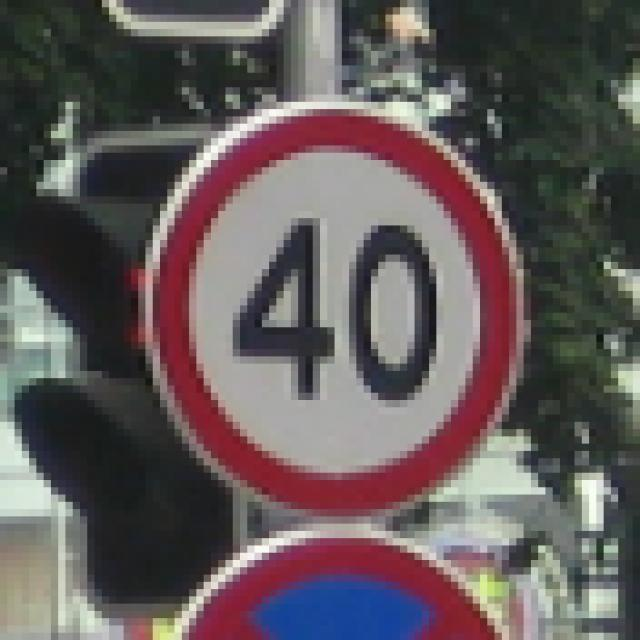Speed: (133, 92, 524, 528)
